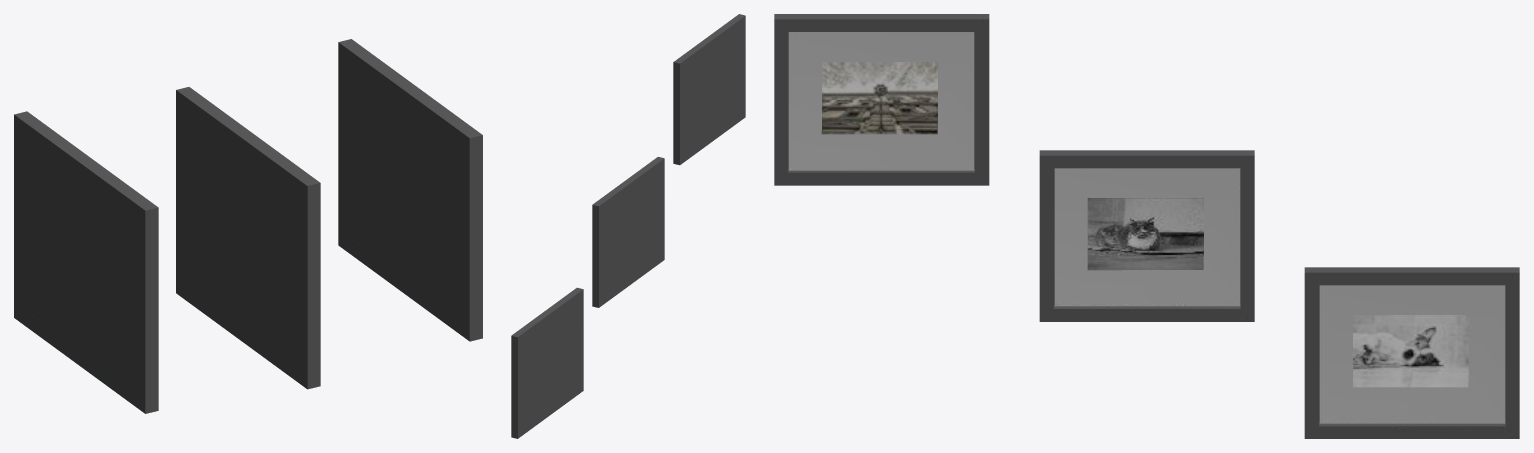
The model's file is WallPainting0002.obj.
The picture shows the model from 3 angles, left to right: view 1: azimuth 30°, elevation 25°; view 2: azimuth 150°, elevation 25°; view 3: azimuth 270°, elevation 25°; orthographic projection. The views are drawn at different scales.
Parts seen in each view (by area): view 1: WallPainting0002; view 2: WallPainting0002; view 3: WallPainting0002.
Boxes of the visible parts, box(x1,y1,x2,y2) form: WallPainting0002: box(14, 39, 482, 413); WallPainting0002: box(511, 14, 745, 438); WallPainting0002: box(774, 14, 1519, 438).
Size of the model in its own units: 0.03 by 1.12 by 1.8.
1 material, 1 textured.
